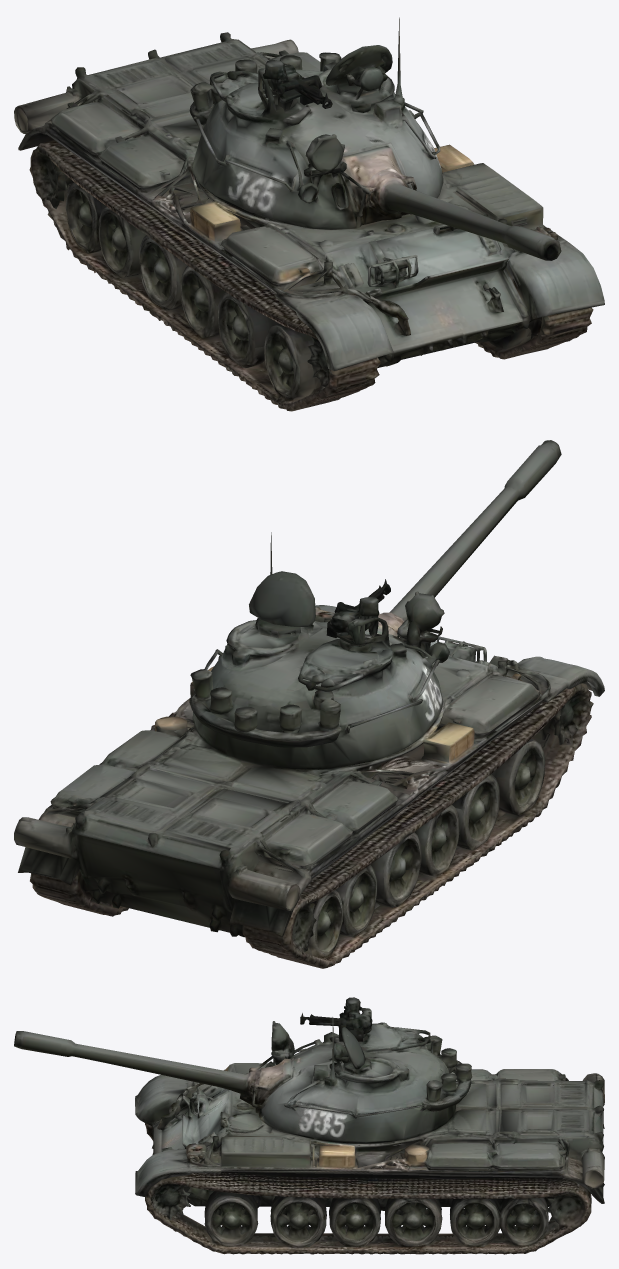
Rendered from t55_tank.glb.
The picture shows the model from 3 angles, top to bottom: view 1: azimuth 30°, elevation 25°; view 2: azimuth 150°, elevation 25°; view 3: azimuth 270°, elevation 25°; orthographic projection. The views are drawn at different scales.
Visible parts, largest first — view 1: node_0; view 2: node_0; view 3: node_0.
Part boxes in pixels (x1,y1,x2,y2): node_0: (14, 17, 604, 411); node_0: (14, 440, 604, 968); node_0: (14, 997, 604, 1254).
Bounding box in the file's own units: 0.4298 × 0.4434 × 1.1.
Materials: 1 (1 with a texture image).
